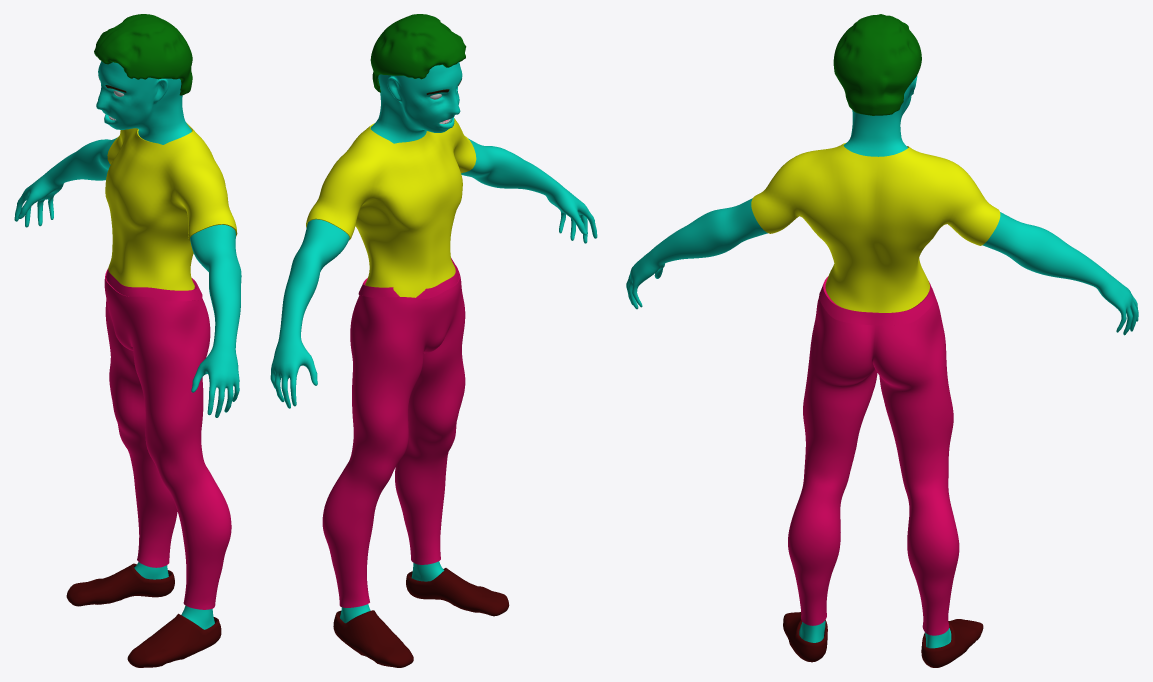
File: Personaje.fbx
3 renders of one model, left to right at view 1: azimuth 30°, elevation 25°; view 2: azimuth 150°, elevation 25°; view 3: azimuth 270°, elevation 25°, orthographic. The views are drawn at different scales.
Visible parts, largest first — view 1: Baja; view 2: Baja; view 3: Baja.
Boxes of the visible parts, <box> form: Baja: <box>14,14,241,667</box>; Baja: <box>270,14,597,667</box>; Baja: <box>626,14,1138,667</box>.
Size of the model in its own units: 413 by 1929 by 1431.
